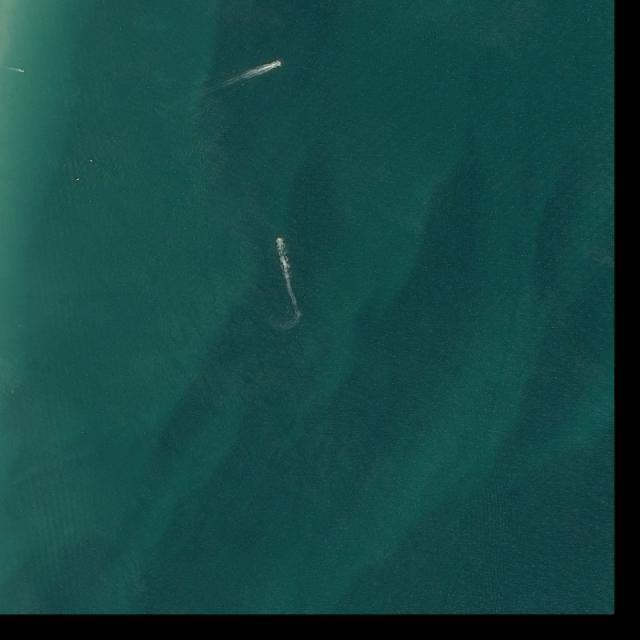ship: (275, 235, 284, 248), (272, 60, 282, 67), (19, 70, 26, 74)
